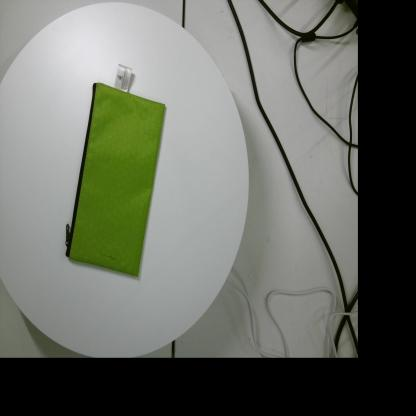Stationery: (66, 64, 166, 277)
